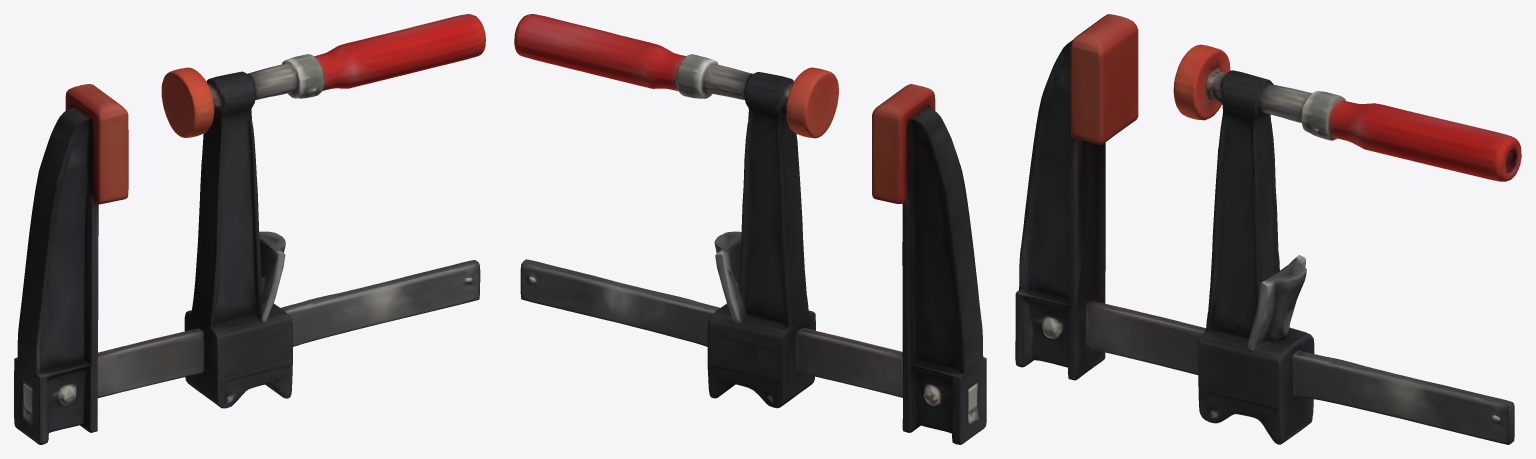
The model's file is hcrg-clamp-02.glb.
The picture shows the model from 3 angles, left to right: view 1: azimuth 30°, elevation 25°; view 2: azimuth 150°, elevation 25°; view 3: azimuth 330°, elevation 25°; orthographic projection. The views are drawn at different scales.
Parts seen in each view (by area): view 1: fixed jaw, sliding jaw, bar, screw handle, swivel pad; view 2: fixed jaw, sliding jaw, bar, screw handle, swivel pad; view 3: fixed jaw, sliding jaw, bar, screw handle, swivel pad.
Boxes of the visible parts, x1,y1,x2,y2 form: fixed jaw: [14, 84, 128, 444]; sliding jaw: [184, 71, 292, 408]; bar: [112, 260, 480, 393]; screw handle: [247, 14, 485, 99]; swivel pad: [161, 67, 214, 137]; fixed jaw: [872, 84, 986, 444]; sliding jaw: [707, 72, 815, 408]; bar: [520, 259, 888, 393]; screw handle: [514, 14, 751, 99]; swivel pad: [786, 67, 838, 138]; fixed jaw: [1015, 14, 1138, 380]; sliding jaw: [1198, 70, 1314, 444]; bar: [1119, 308, 1514, 444]; screw handle: [1207, 73, 1521, 181]; swivel pad: [1173, 44, 1230, 120].
Size of the model in its own units: 0.2523 by 0.1804 by 0.0353.
